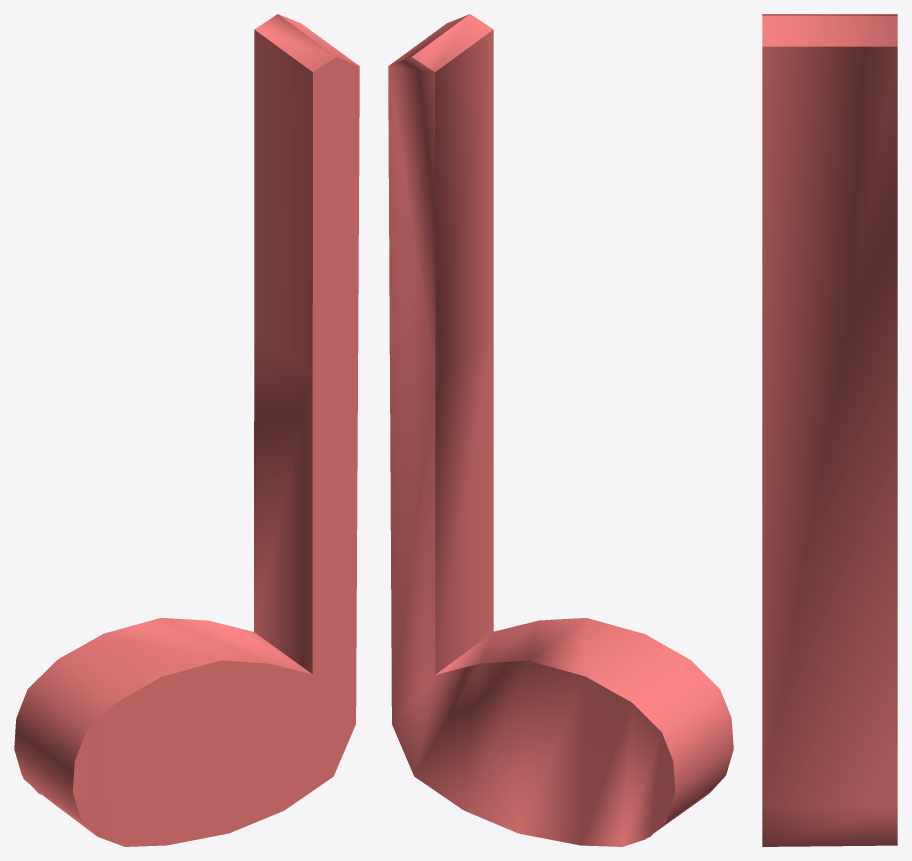
The model's file is MusicalNote_2_Red.fbx.
The picture shows the model from 3 angles, left to right: view 1: azimuth 30°, elevation 25°; view 2: azimuth 150°, elevation 25°; view 3: azimuth 270°, elevation 25°; orthographic projection. The views are drawn at different scales.
Visible parts, largest first — view 1: MusicalNote_2_Red; view 2: MusicalNote_2_Red; view 3: MusicalNote_2_Red.
Part boxes in pixels (bbox=[...]): MusicalNote_2_Red: bbox=[14, 14, 359, 846]; MusicalNote_2_Red: bbox=[388, 14, 733, 846]; MusicalNote_2_Red: bbox=[762, 14, 897, 846].
Size of the model in its own units: 2.09 by 0.74 by 5.23.
